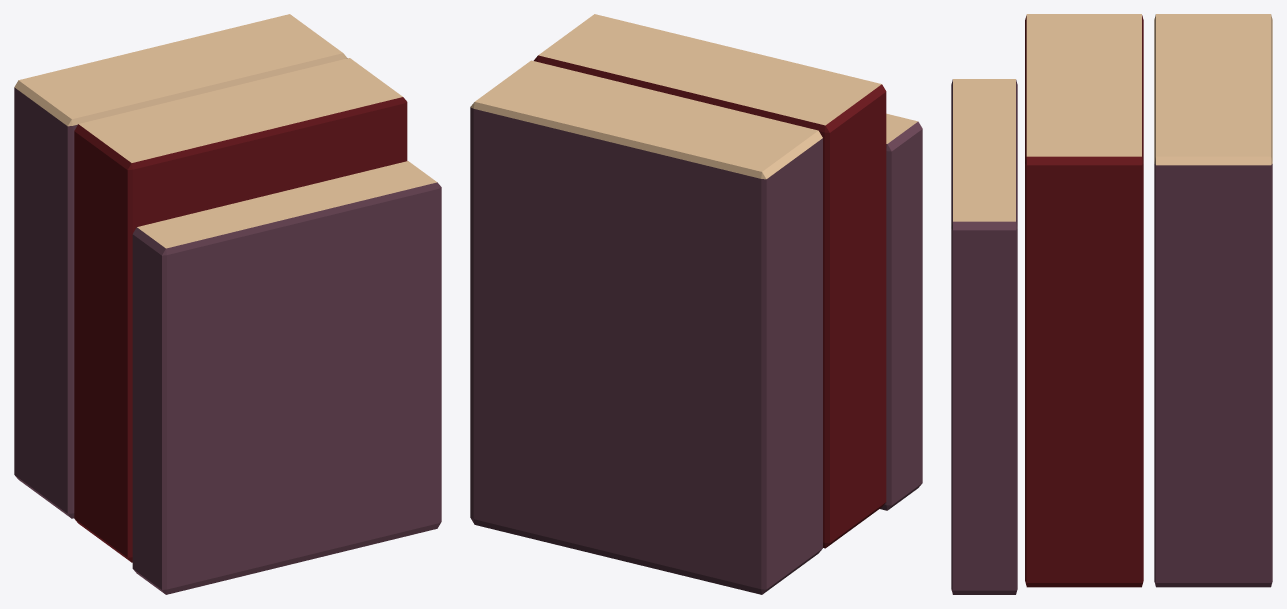
Rendered from kleiner_Buecher_Stapel.fbx.
3 renders of one model, left to right at view 1: azimuth 30°, elevation 25°; view 2: azimuth 150°, elevation 25°; view 3: azimuth 270°, elevation 25°, orthographic. The views are drawn at different scales.
Visible parts, largest first — view 1: Bücher3; view 2: Bücher3; view 3: Bücher3.
Part boxes in pixels (bbox=[...]): Bücher3: bbox=[14, 14, 441, 594]; Bücher3: bbox=[470, 14, 922, 594]; Bücher3: bbox=[951, 14, 1272, 594].
Size of the model in its own units: 19.62 by 27.25 by 18.13.
